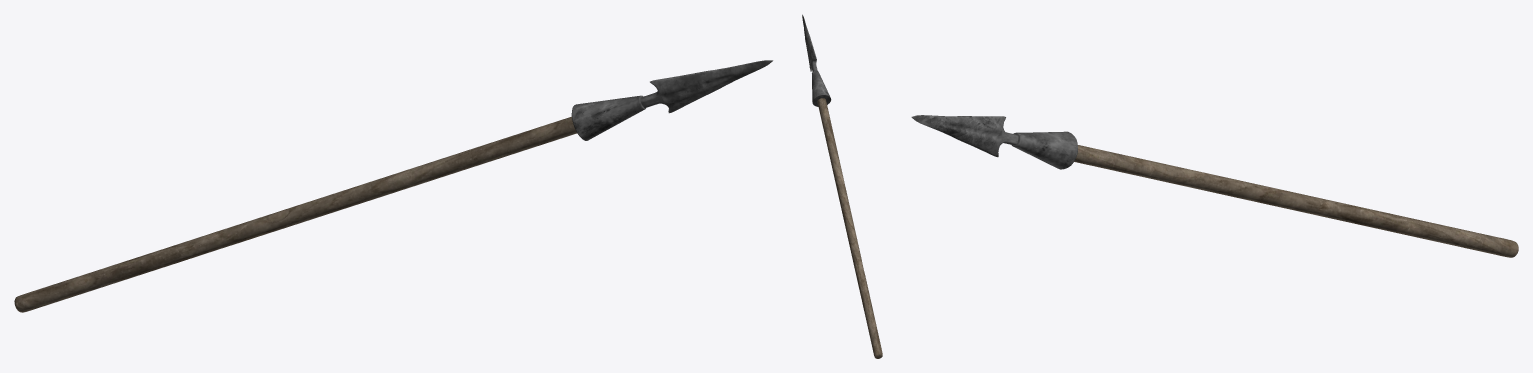
Rendered from COSSACK_WEAPON_17#2.glb.
3 renders of one model, left to right at view 1: azimuth 30°, elevation 25°; view 2: azimuth 150°, elevation 25°; view 3: azimuth 270°, elevation 25°, orthographic. The views are drawn at different scales.
Parts seen in each view (by area): view 1: Kopie1; view 2: Kopie1; view 3: Kopie1.
Boxes of the visible parts, x1=… form: Kopie1: x1=14, y1=60, x2=773, y2=312; Kopie1: x1=802, y1=14, x2=882, y2=358; Kopie1: x1=911, y1=115, x2=1518, y2=257.
Bounding box in the file's own units: 5.98 × 4.49 × 6.85.
Materials: 1 (1 with a texture image).
